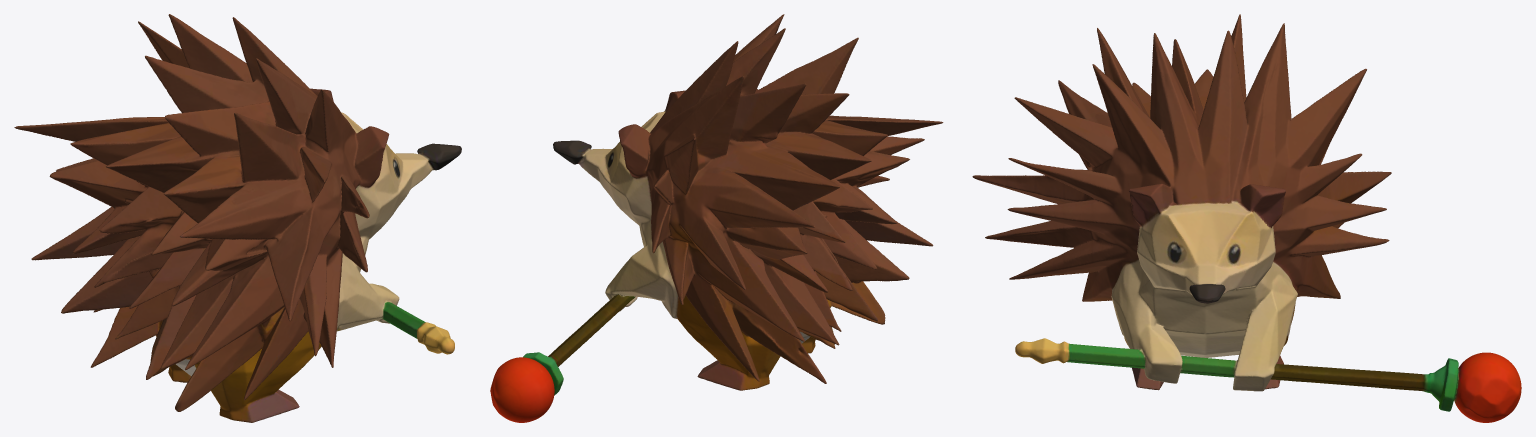
File: hedgehog.glb
3 views of the same model, side by side, from view 1: azimuth 30°, elevation 25°; view 2: azimuth 150°, elevation 25°; view 3: azimuth 270°, elevation 25° (orthographic). The views are drawn at different scales.
Parts seen in each view (by area): view 1: tripo_node_75069076-054b-4b3d-86e1-e4014d0d88d2; view 2: tripo_node_75069076-054b-4b3d-86e1-e4014d0d88d2; view 3: tripo_node_75069076-054b-4b3d-86e1-e4014d0d88d2.
Part boxes in pixels (x1,y1,x2,y2): tripo_node_75069076-054b-4b3d-86e1-e4014d0d88d2: (14,14,461,422); tripo_node_75069076-054b-4b3d-86e1-e4014d0d88d2: (490,14,943,422); tripo_node_75069076-054b-4b3d-86e1-e4014d0d88d2: (972,14,1521,422).
Size of the model in its own units: 0.7496 by 0.7032 by 1.
Materials: 1 (1 with a texture image).
